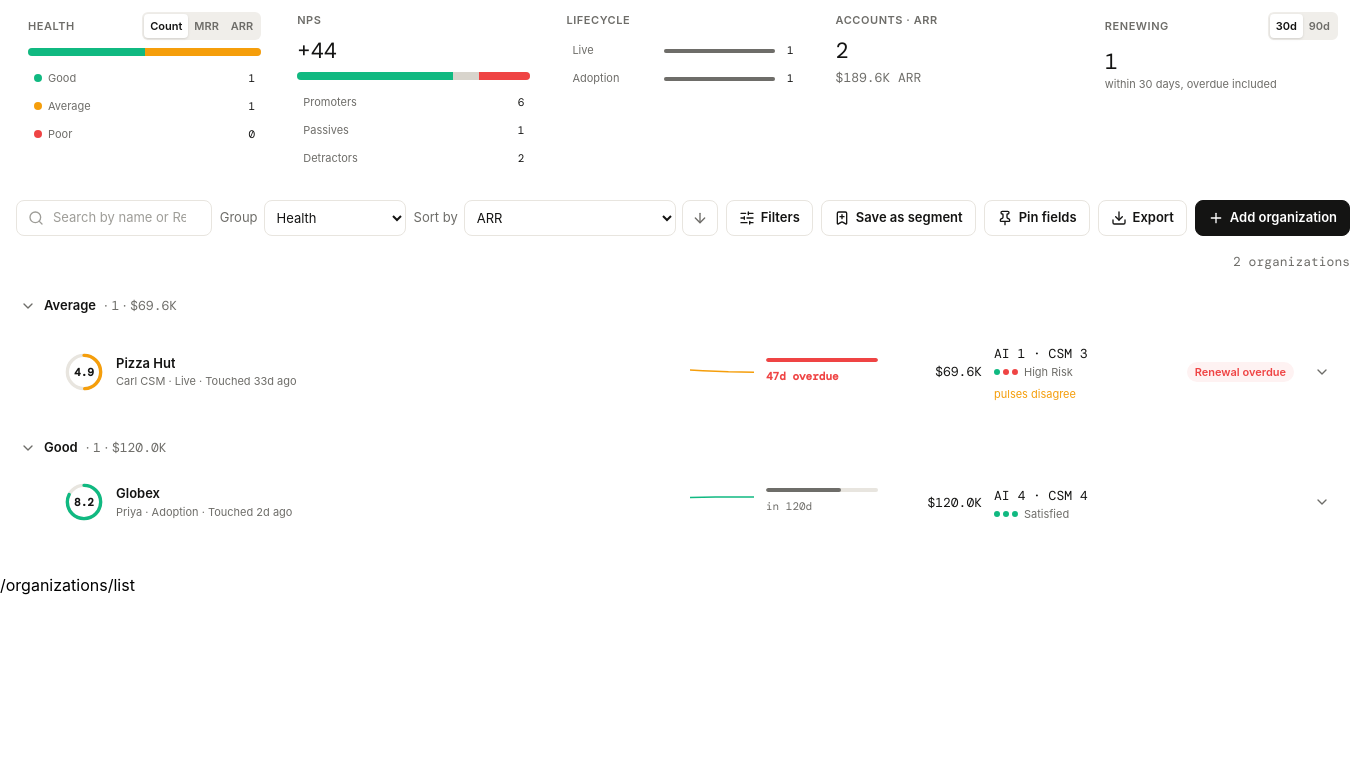
it: Organizations list (portfolio) › adds an organization with the existing form
The image size is (1366, 768).
Click the button "Add organization". click: point(1272, 218)
box: [1195,200,1350,236]
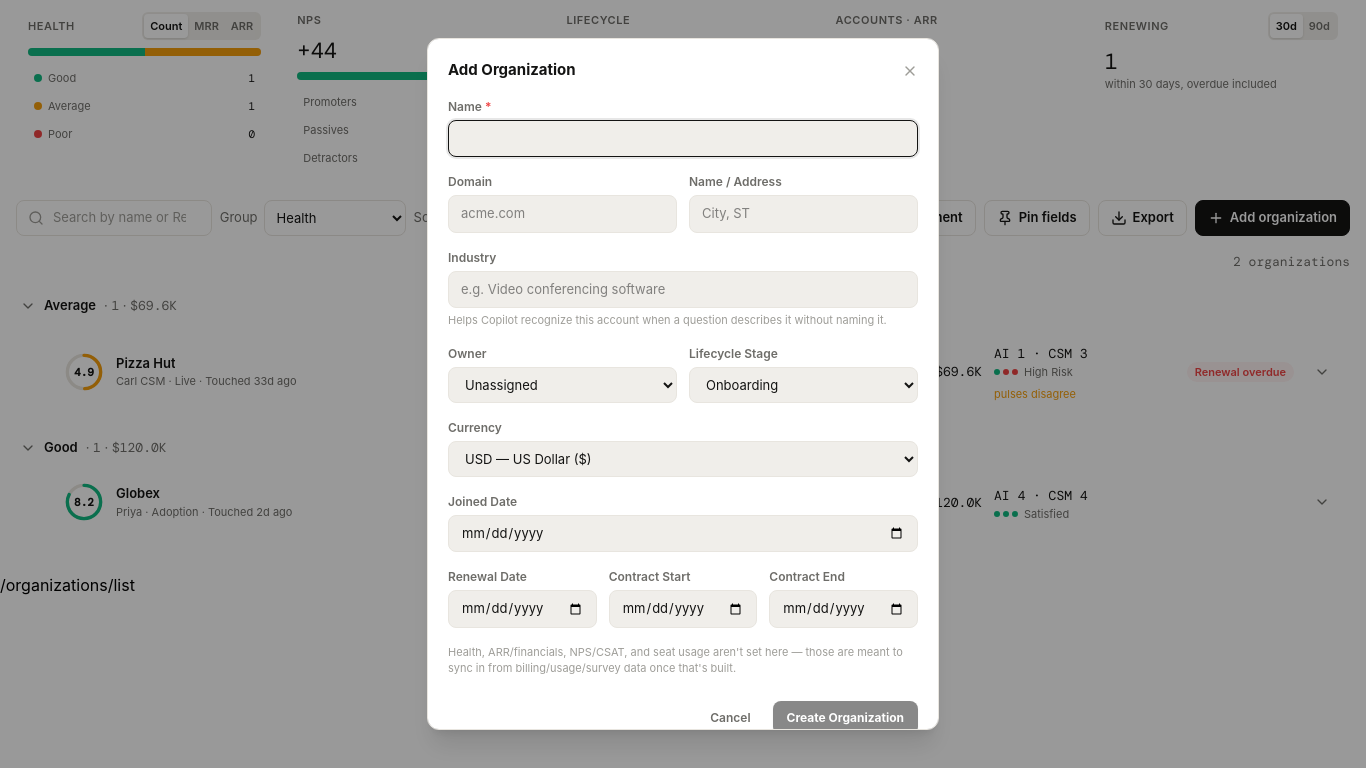
Check: the heading "Add Organization" is shown, box [448,59,576,82]
